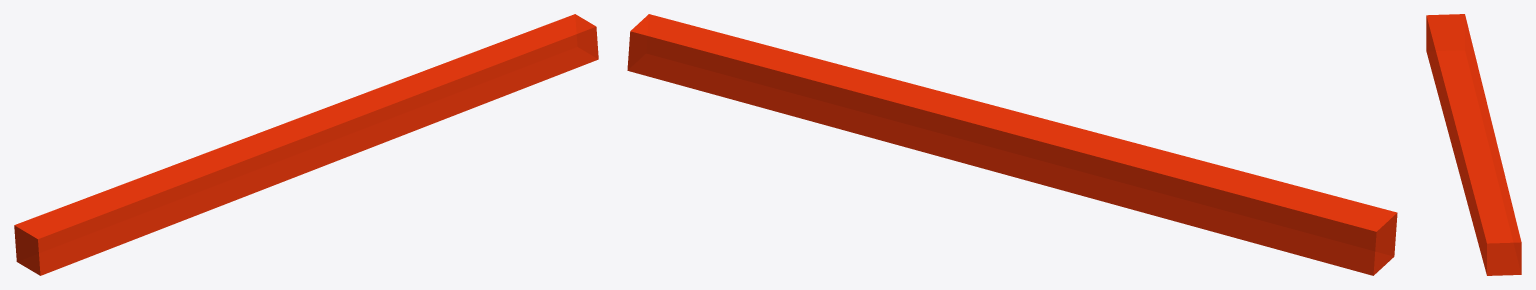
File: Event_420094457_EErechit_23.fbx
3 views of the same model, side by side, from view 1: azimuth 30°, elevation 25°; view 2: azimuth 150°, elevation 25°; view 3: azimuth 270°, elevation 25° (orthographic). The views are drawn at different scales.
Visible parts, largest first — view 1: Model; view 2: Model; view 3: Model.
Boxes of the visible parts, box(x1,y1,x2,y2) form: Model: box(14, 14, 598, 275); Model: box(627, 14, 1397, 275); Model: box(1426, 14, 1521, 275).
Bounding box in the file's own units: 1.35 × 0.1783 × 0.1991.
